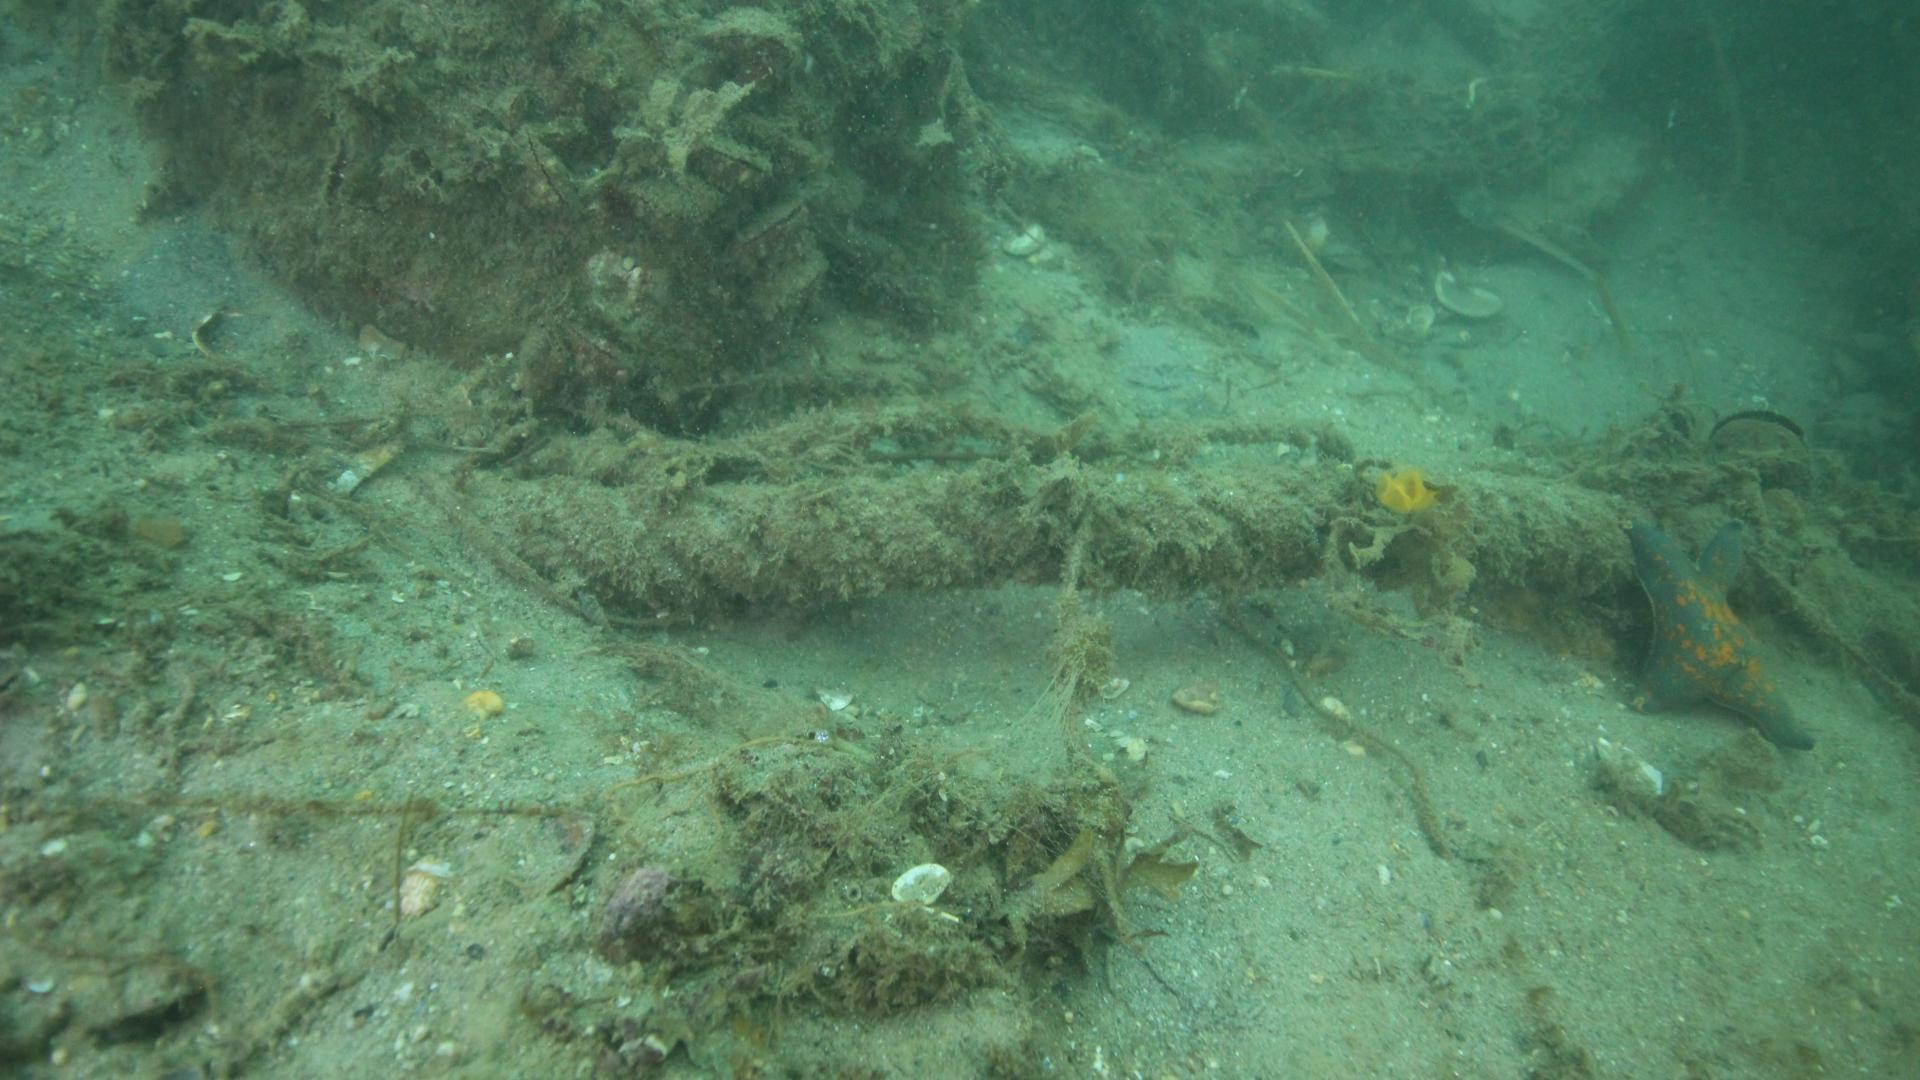rope: (510, 476, 1640, 609)
